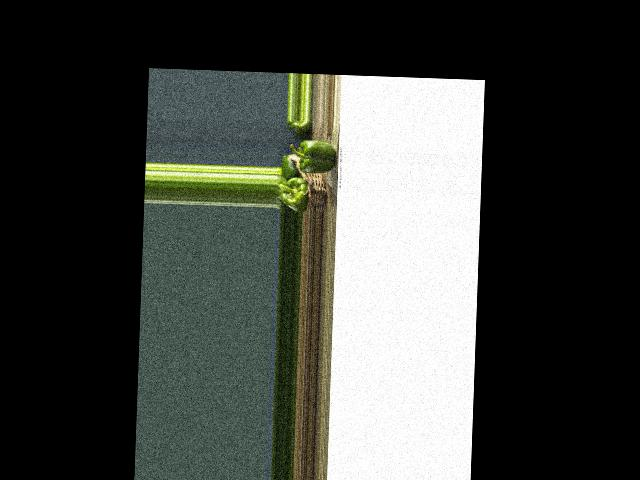bell_pepper: (287, 119, 308, 133)
